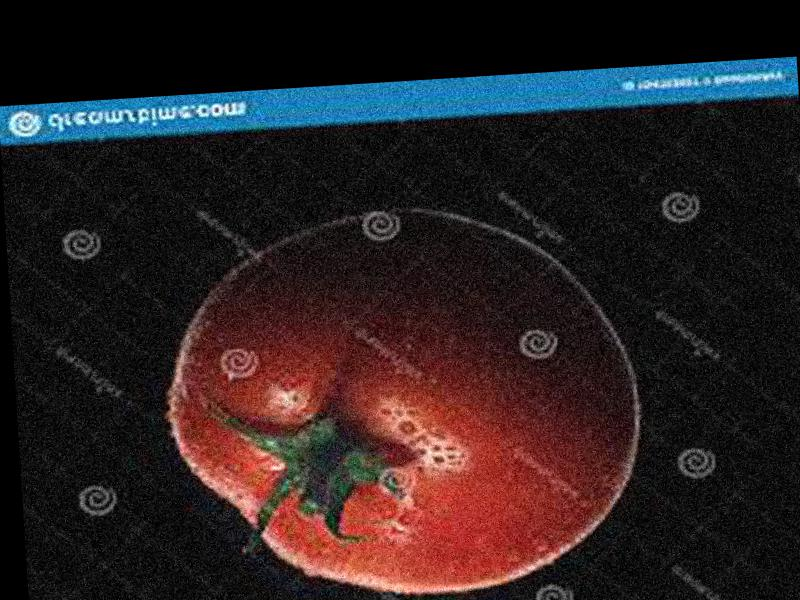Tomato: (156, 198, 652, 600)
